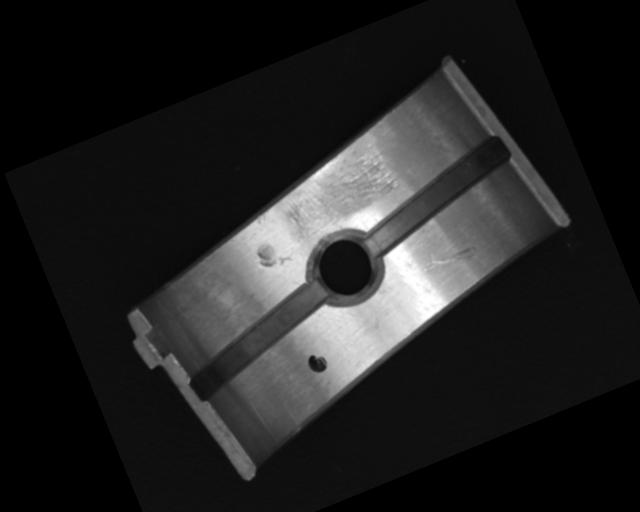blot: (305, 350, 330, 376)
bruise: (252, 234, 294, 273), (252, 208, 271, 226)
gap: (171, 277, 345, 405), (347, 133, 524, 258)
hole: (297, 218, 394, 317)
nick: (421, 241, 479, 277)
scratch: (266, 137, 408, 248)
